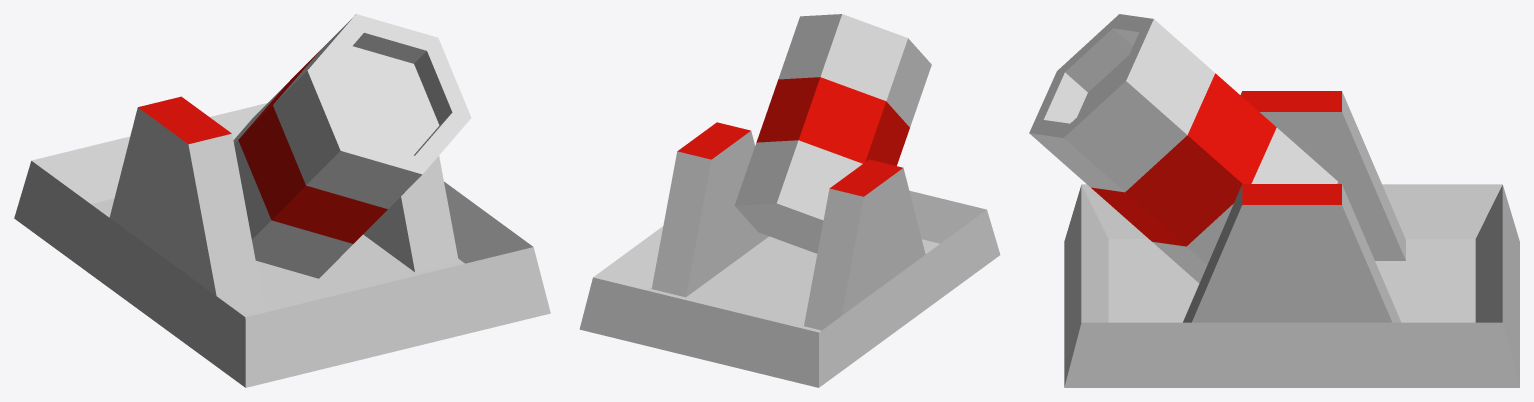
File: TurretMortar.fbx
3 views of the same model, side by side, from view 1: azimuth 30°, elevation 25°; view 2: azimuth 150°, elevation 25°; view 3: azimuth 270°, elevation 25° (orthographic). The views are drawn at different scales.
Visible parts, largest first — view 1: TurretMortar; view 2: TurretMortar; view 3: TurretMortar.
Part boxes in pixels (x1,y1,x2,y2): TurretMortar: (14,14,550,387); TurretMortar: (579,14,1000,387); TurretMortar: (1029,14,1519,387).
Size of the model in its own units: 28.91 by 27.39 by 40.94.
